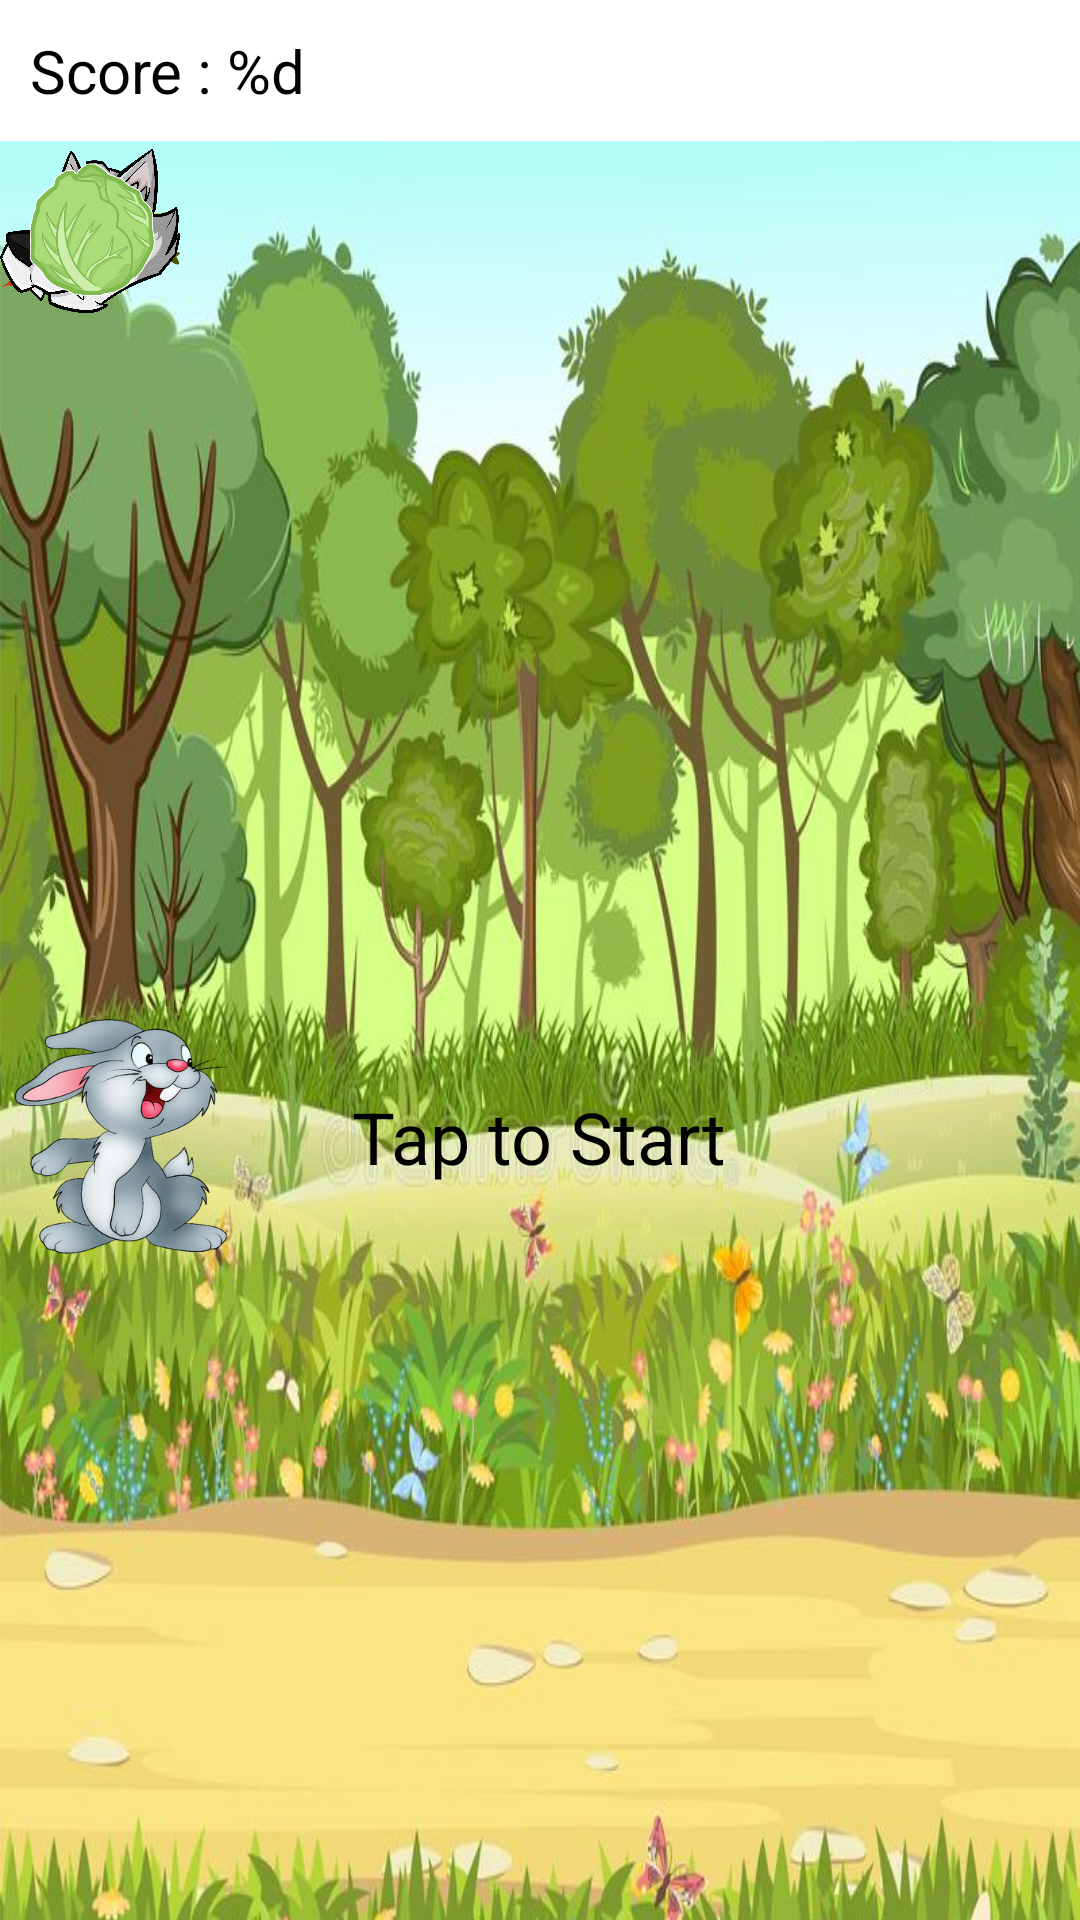

Icon click points for this 1080w x 1920h phone screenshot, format (x,y):
bunny: (120,1137)
